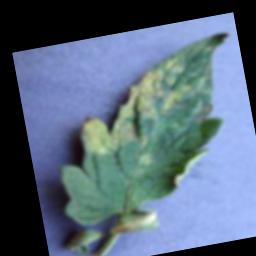Leaf_Mold: (66, 50, 204, 160)
